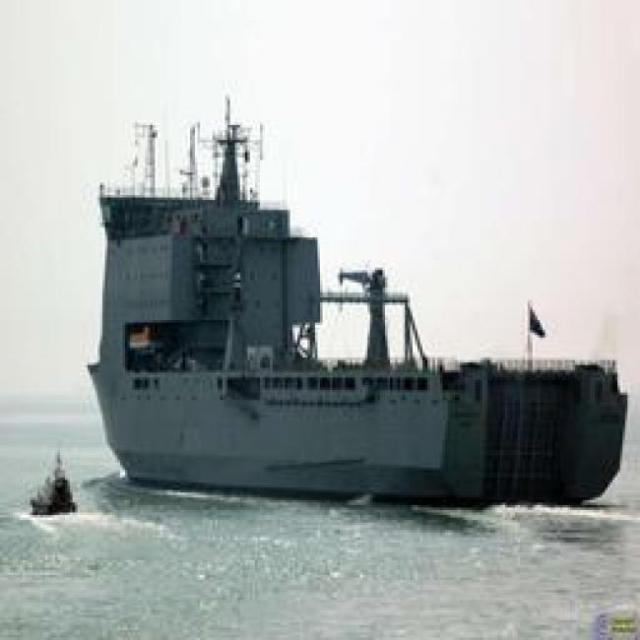boat: (53, 311, 629, 518)
